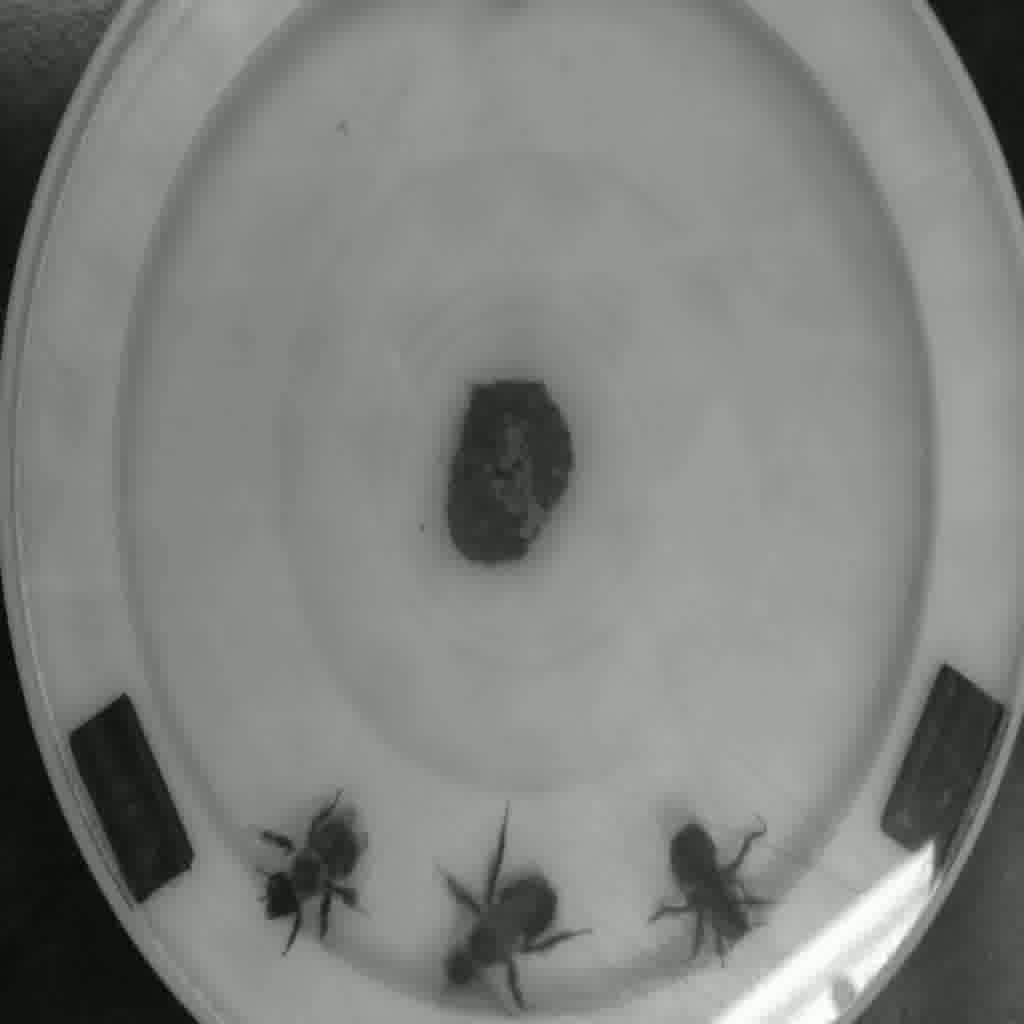bee: (268, 796, 374, 942), (441, 858, 557, 977), (658, 820, 765, 946)
